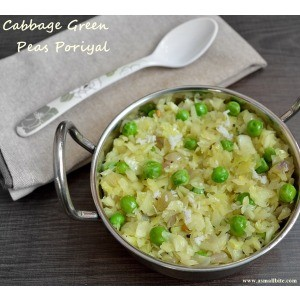green pea_brain food: (140, 163, 192, 186), (110, 194, 139, 226), (270, 181, 298, 209), (141, 225, 174, 246), (120, 117, 144, 144), (243, 117, 265, 141), (209, 162, 230, 184)
